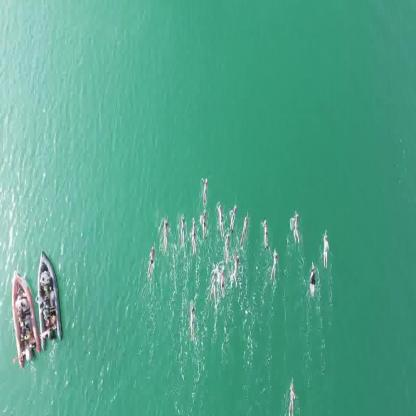Boat: (8, 272, 39, 360), (35, 252, 62, 345)
